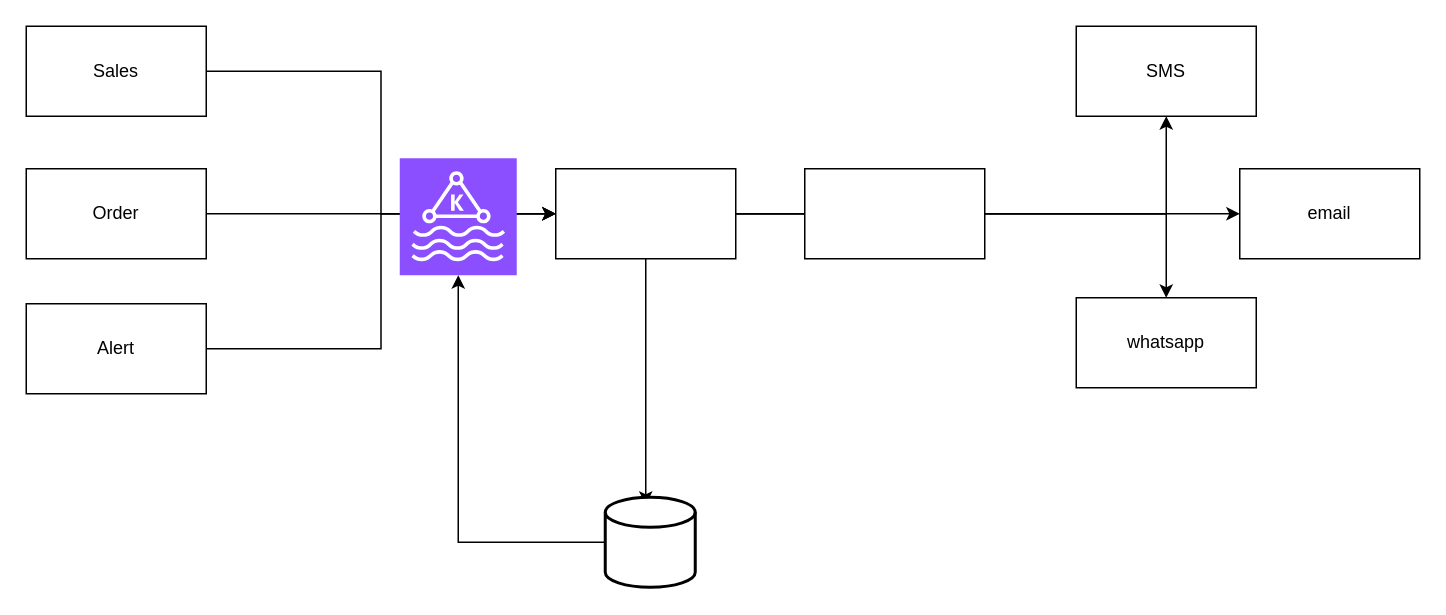
Some shapes in this 1446 by 615 pixel diagram are drawn without their labels. Here are the shapes that lost their labels. From the top down, the centre of each, then its label:
At [645,213]: "Notification".
At [894,213]: "Provider Twlio".
